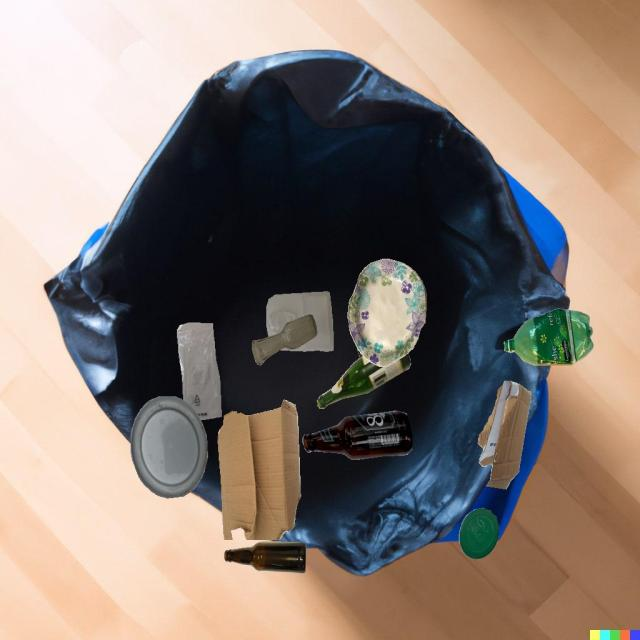cardboard: (218, 399, 301, 540), (348, 259, 427, 367), (478, 381, 531, 490)
glass: (303, 411, 412, 460), (317, 353, 411, 409), (252, 314, 317, 365), (224, 541, 306, 574), (357, 348, 363, 358)
plastic: (131, 396, 208, 498), (504, 308, 594, 365), (177, 323, 222, 420), (266, 292, 334, 352), (459, 508, 499, 559)
